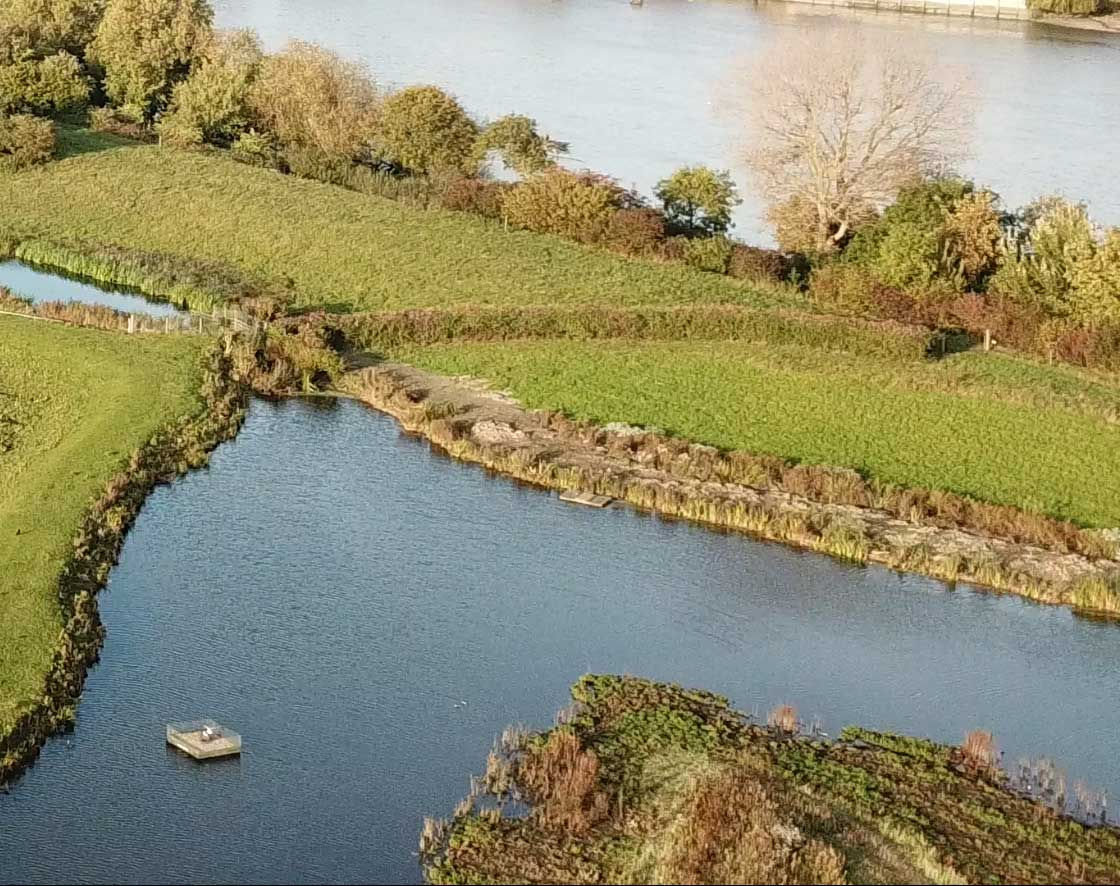tree: (708, 18, 1006, 298), (648, 163, 745, 238)
